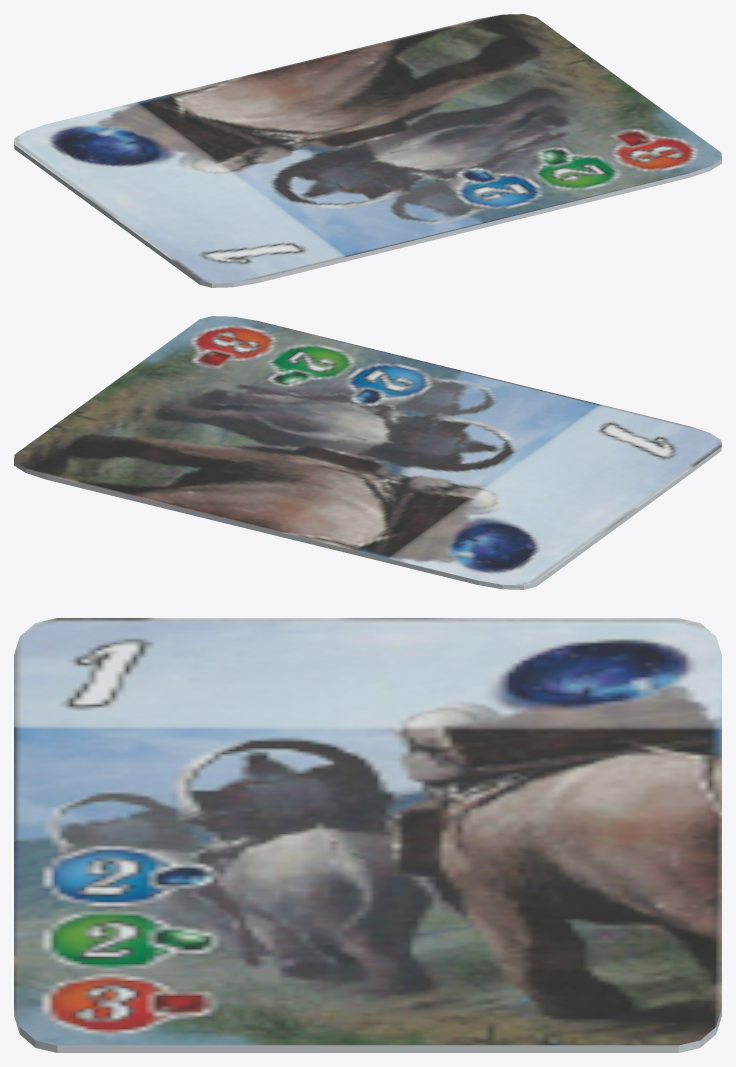
3 views of the same model, one above another, from view 1: azimuth 30°, elevation 25°; view 2: azimuth 150°, elevation 25°; view 3: azimuth 270°, elevation 25° (orthographic). The views are drawn at different scales.
Visible parts, largest first — view 1: Card1; view 2: Card1; view 3: Card1.
Boxes of the visible parts, left/top/right/bottom form: Card1: left=14, top=14, right=721, bottom=287; Card1: left=14, top=316, right=721, bottom=589; Card1: left=14, top=618, right=721, bottom=1052.
Size of the model in its own units: 700 by 5.74 by 490.
